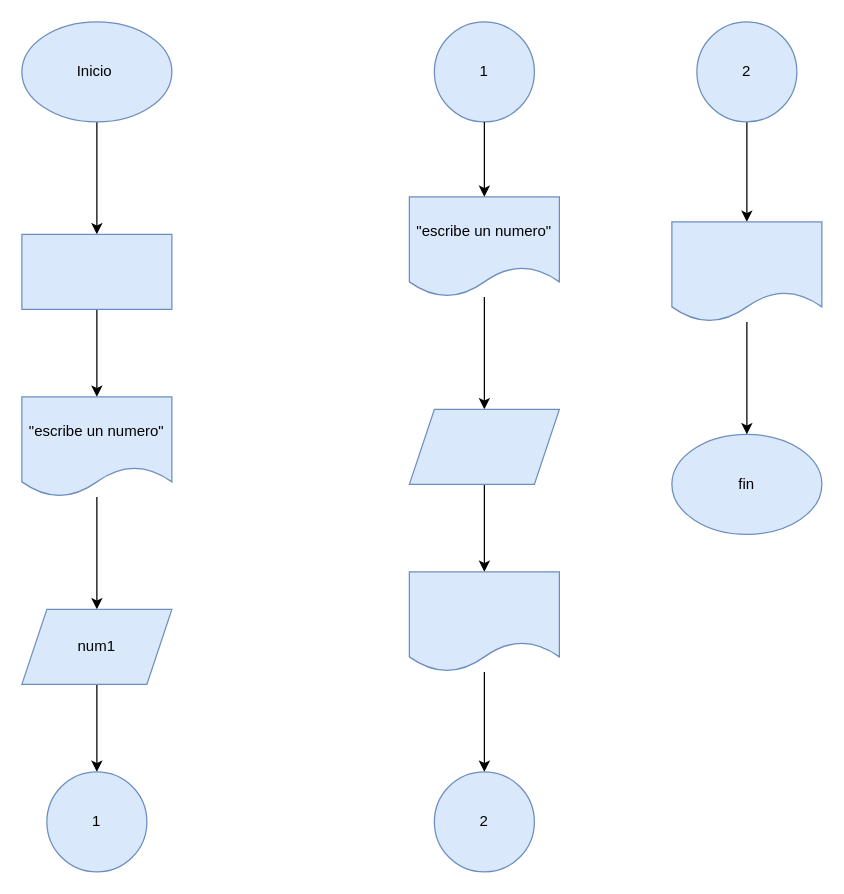
The diagram is 844 pixels wide and 894 high, and some of its shapes have lost their labels. Each missing label, with the centre of its shape:
"el resultado es", num1*num2, "tu respuesta es", res = num1 * num2: (x=746, y=271)
num1, "*", num2, "=": (x=483, y=621)
num1, num2, res: (x=96, y=271)
num2: (x=483, y=446)
